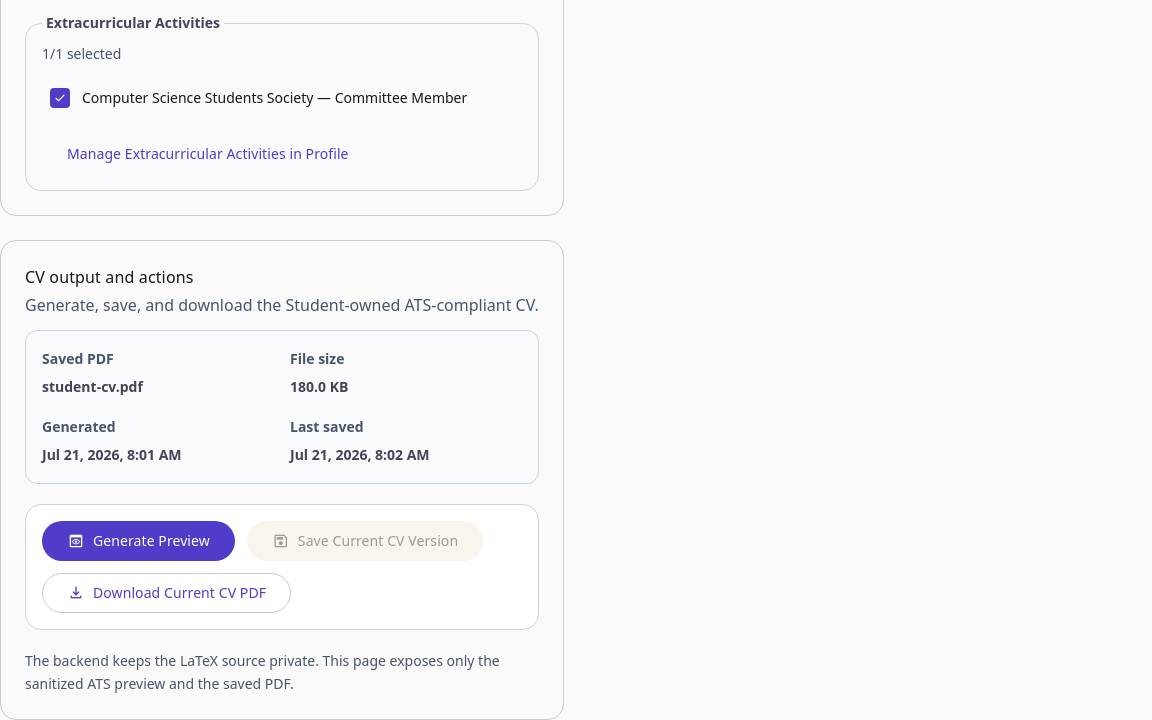
Scenario: CvBuilderPage › guides a retry when the saved PDF is temporarily unavailable
The width and height of the screenshot is (1152, 720).
(page scrolled)
What coordinates should you click on to do the following:
click the button "Download Current CV PDF"
I would click on:
 (167, 593)
Its box is [42, 573, 291, 613].
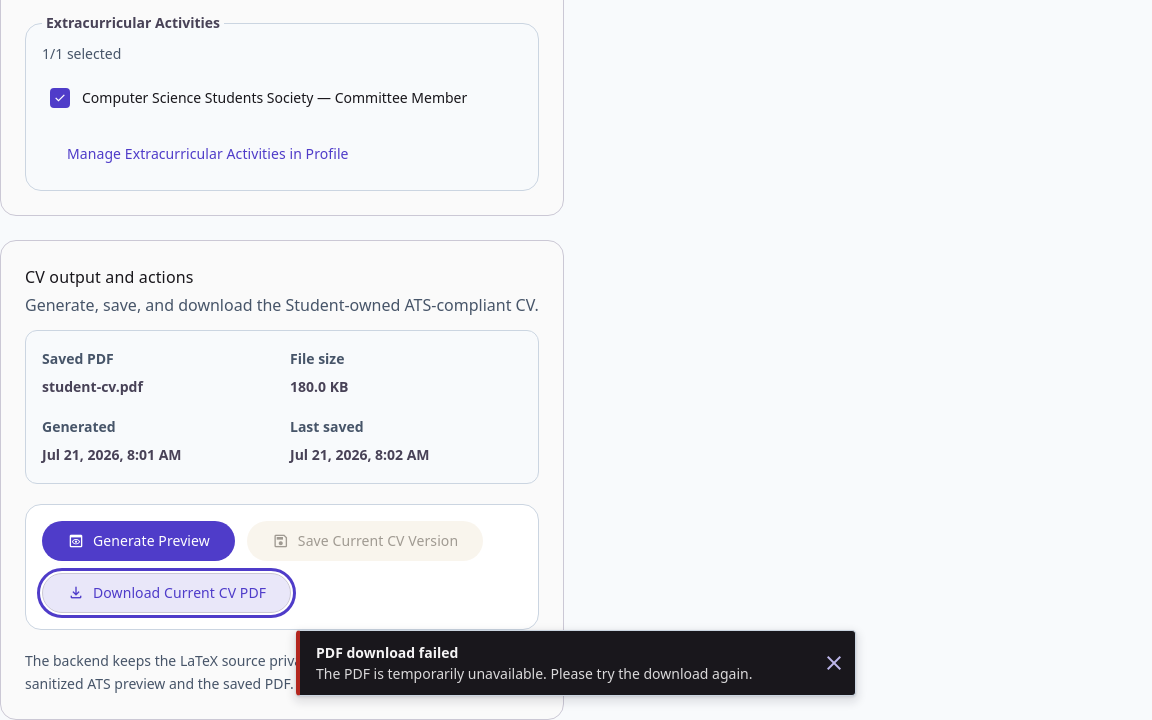
Result: the text "PDF download failed" is shown at [316, 643, 458, 662]
